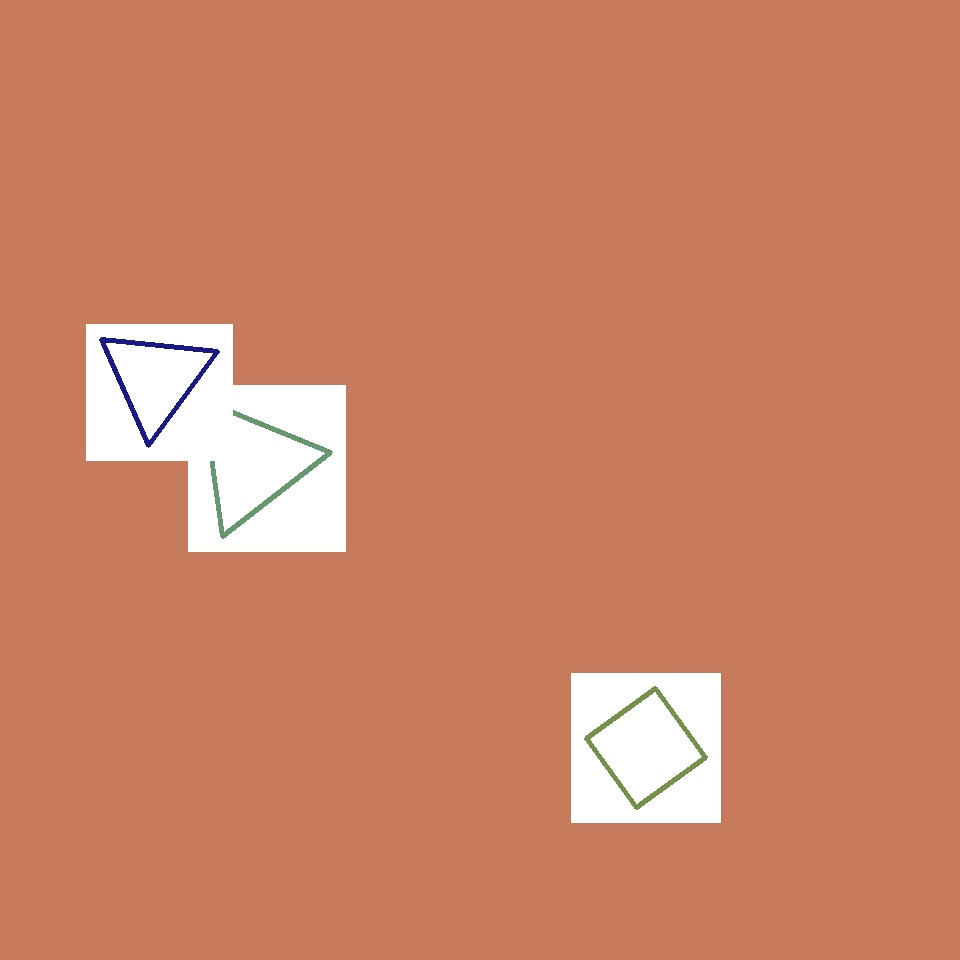circle: (204, 516, 458, 786), (546, 640, 732, 837), (188, 395, 316, 531), (98, 326, 214, 432)
square: (290, 377, 554, 640), (264, 150, 444, 332), (586, 688, 706, 808)
triangle: (486, 662, 586, 764)
